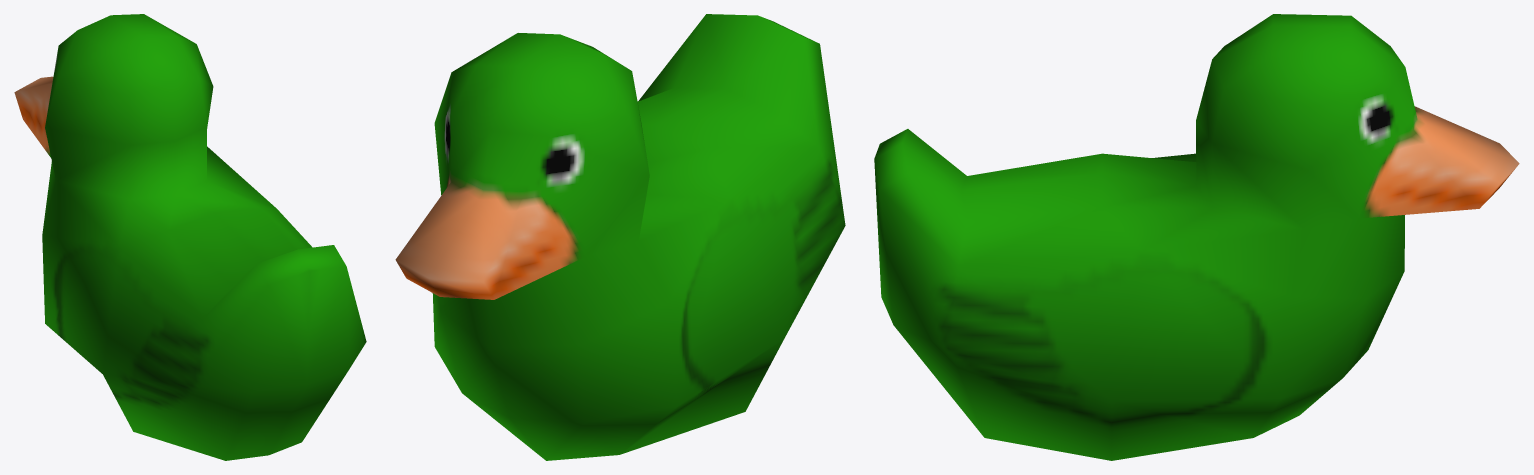
File: GreenRubberducky.fbx
The picture shows the model from 3 angles, left to right: view 1: azimuth 30°, elevation 25°; view 2: azimuth 150°, elevation 25°; view 3: azimuth 270°, elevation 25°; orthographic projection. The views are drawn at different scales.
Visible parts, largest first — view 1: Object; view 2: Object; view 3: Object.
Boxes of the visible parts, x1,y1,x2,y2 form: Object: [14, 14, 366, 460]; Object: [395, 14, 845, 460]; Object: [874, 14, 1519, 460].
Bounding box in the file's own units: 0.0718 × 0.1034 × 0.155.
